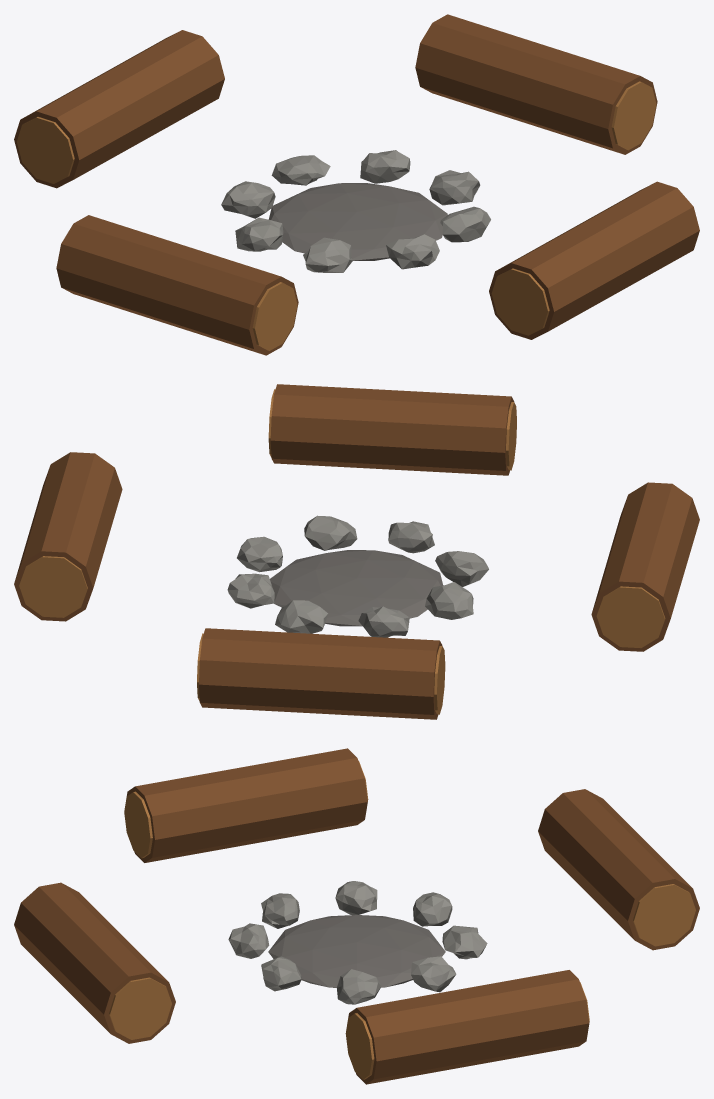
Rendered from vil_campfire_logs_v01.glb.
3 views of the same model, one above another, from view 1: azimuth 30°, elevation 25°; view 2: azimuth 150°, elevation 25°; view 3: azimuth 270°, elevation 25° (orthographic). The views are drawn at different scales.
Visible parts, largest first — view 1: campfire_logs; view 2: campfire_logs; view 3: campfire_logs.
Part boxes in pixels (left/top/right/bottom): campfire_logs: left=14, top=14, right=699, bottom=355; campfire_logs: left=14, top=384, right=699, bottom=719; campfire_logs: left=14, top=748, right=699, bottom=1084.
Size of the model in its own units: 3.86 by 0.4892 by 3.86.
